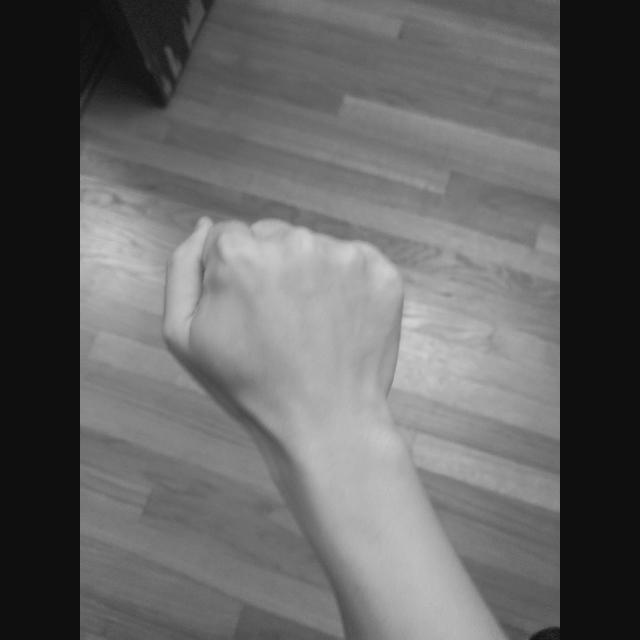A: (156, 211, 410, 447)
